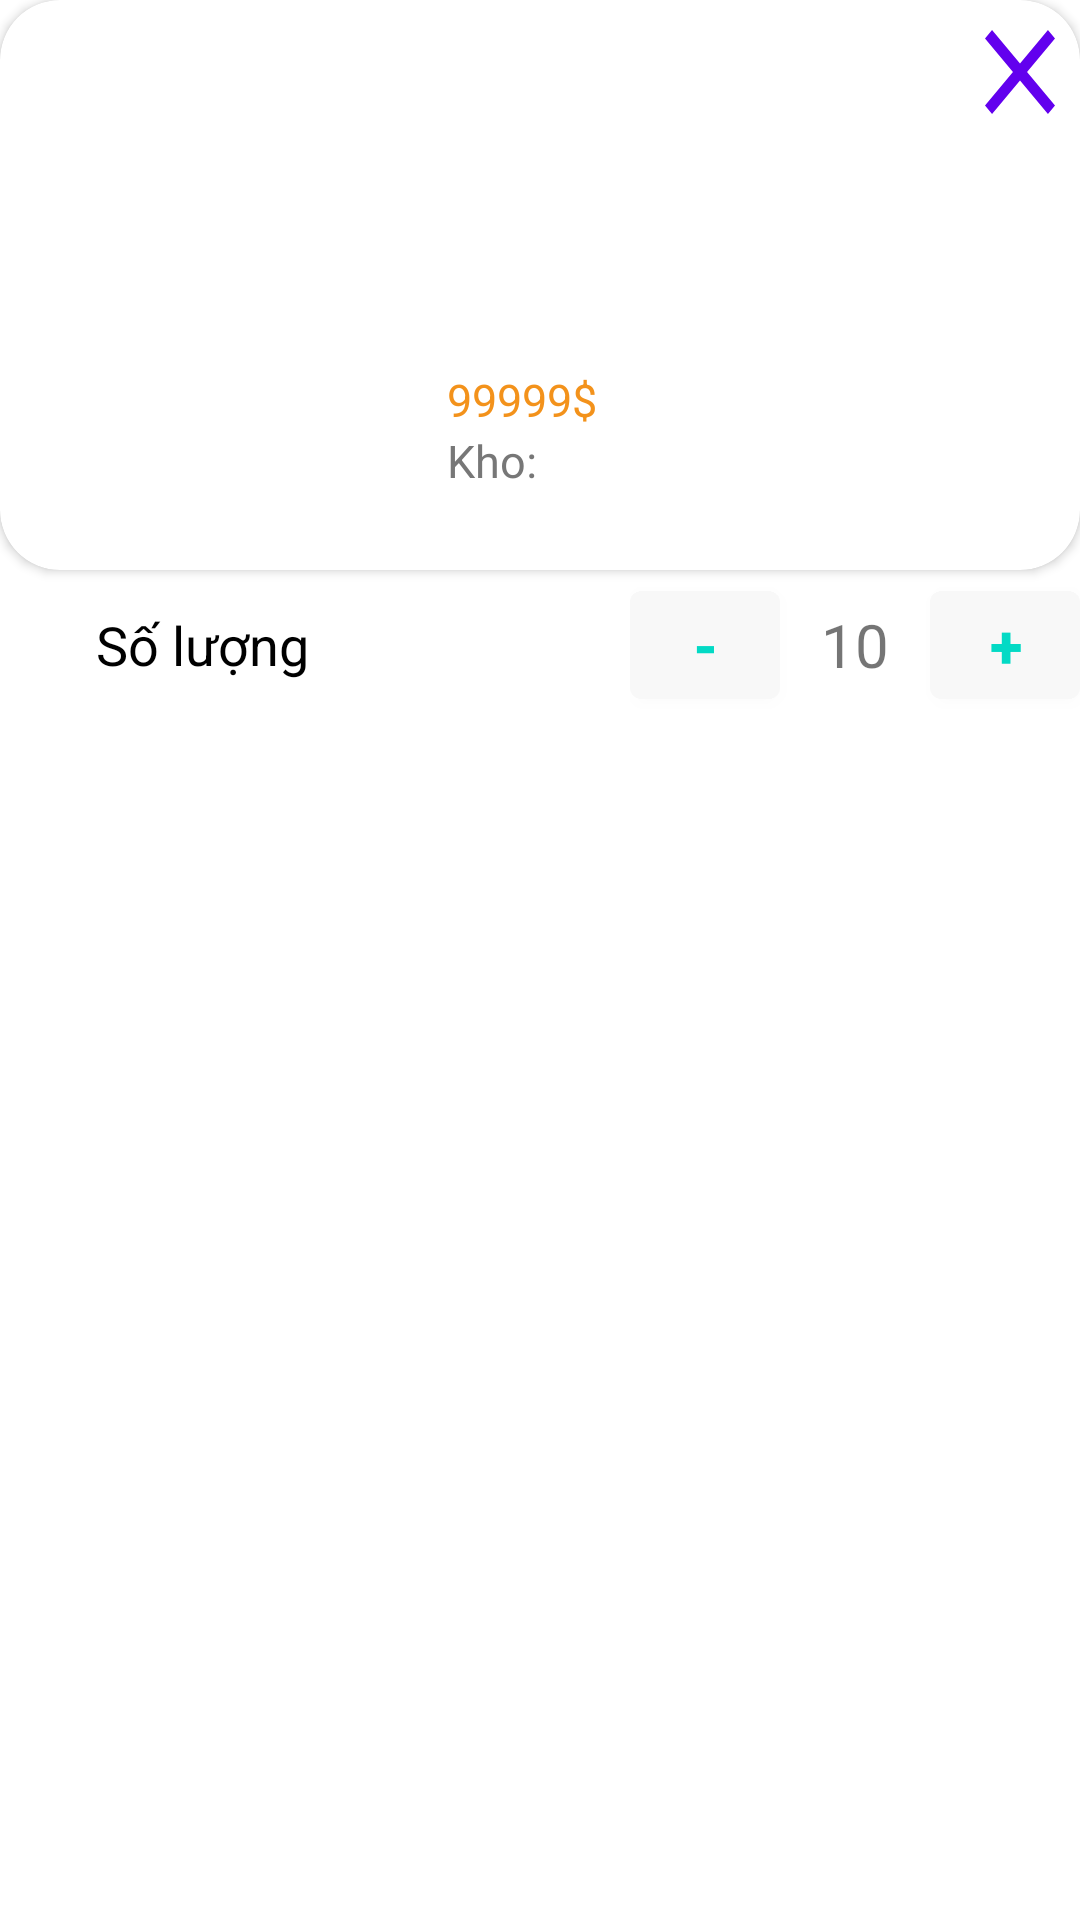

Named icons in this screenshot (1080px×1920px) and their bounding boxes, (x1, y1, x2, y2):
close: (985, 1, 1080, 114)
